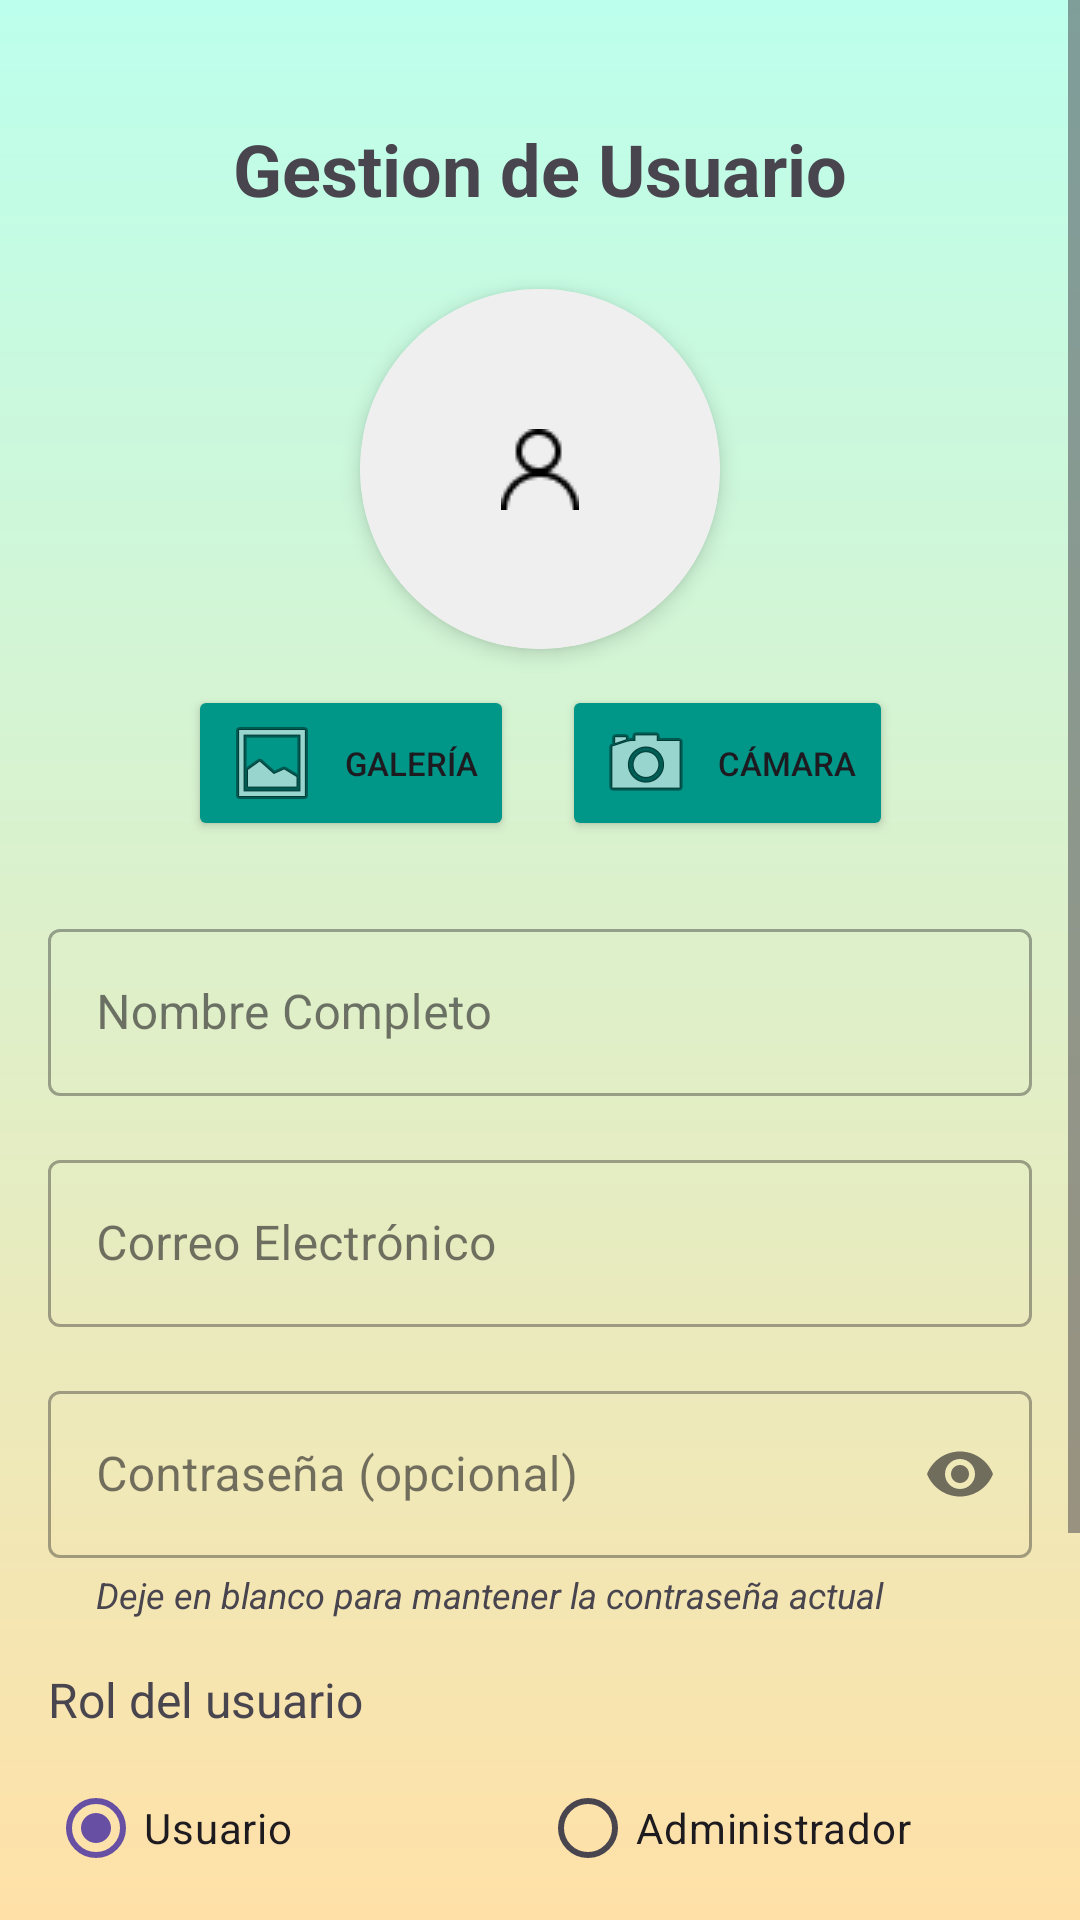

Icon click points for this 1080 × 1920 phone screenshot, format (x,y):
Foto de Perfil: (540,469)
